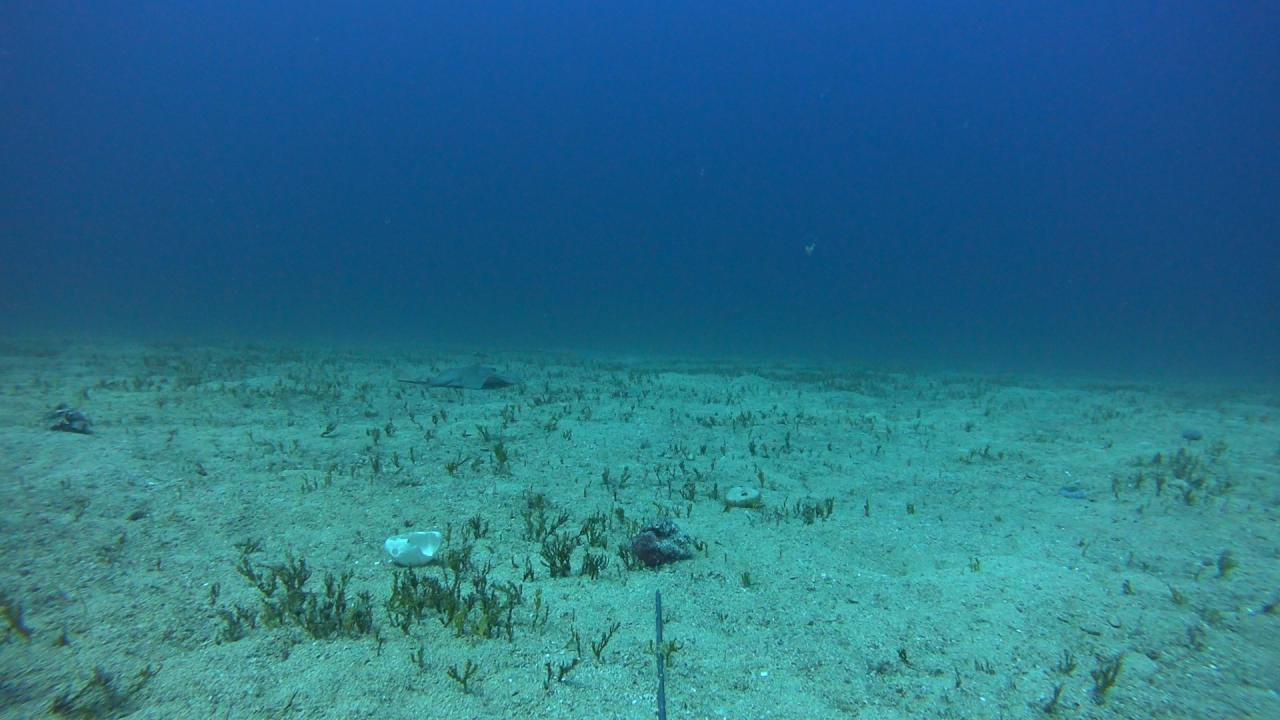dasyatis: (398, 364, 516, 389)
